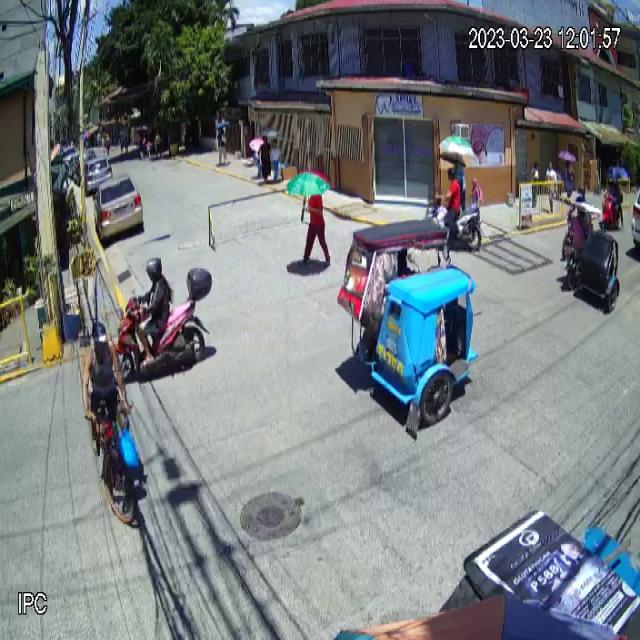Motorcycle: (114, 266, 212, 380)
Tricycle: (343, 218, 479, 428), (560, 192, 621, 320)
